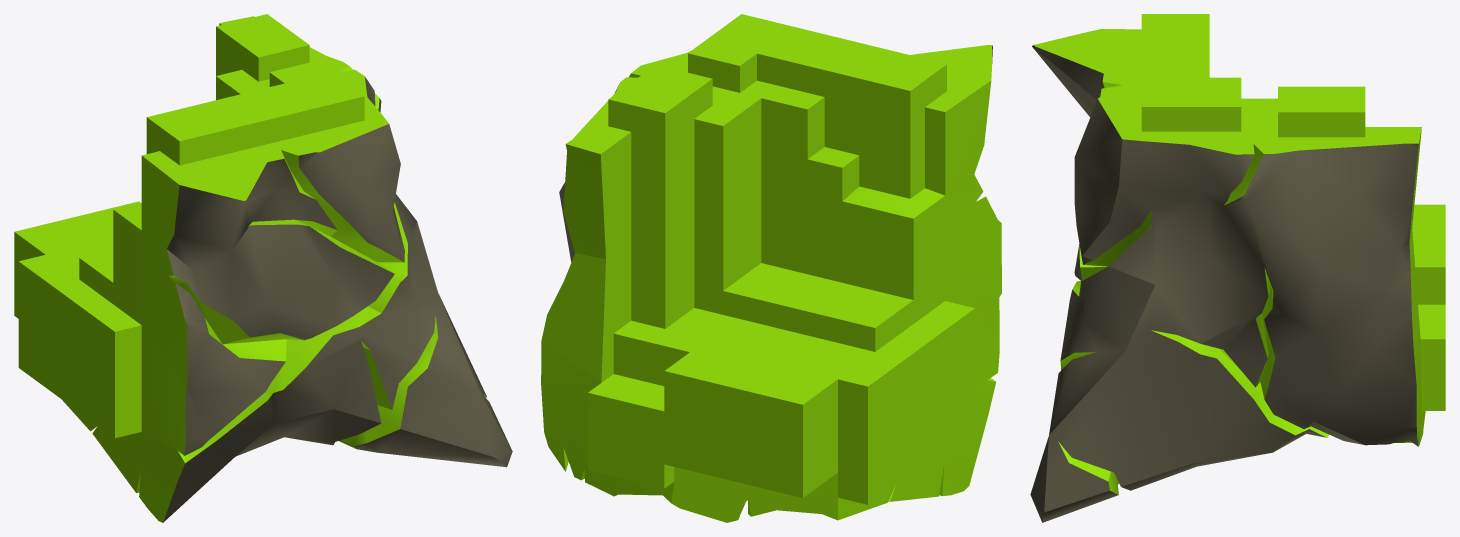
File: obj_harvests_nonepart_tier5_p06.fbx
3 views of the same model, side by side, from view 1: azimuth 30°, elevation 25°; view 2: azimuth 150°, elevation 25°; view 3: azimuth 270°, elevation 25° (orthographic). The views are drawn at different scales.
Parts seen in each view (by area): view 1: gn_p06.001; view 2: gn_p06.001; view 3: gn_p06.001.
Boxes of the visible parts, x1=… form: gn_p06.001: x1=14, y1=14, x2=512, y2=522; gn_p06.001: x1=541, y1=14, x2=1001, y2=522; gn_p06.001: x1=1030, y1=14, x2=1445, y2=522.
Size of the model in its own units: 9.07 by 9.9 by 9.59.
